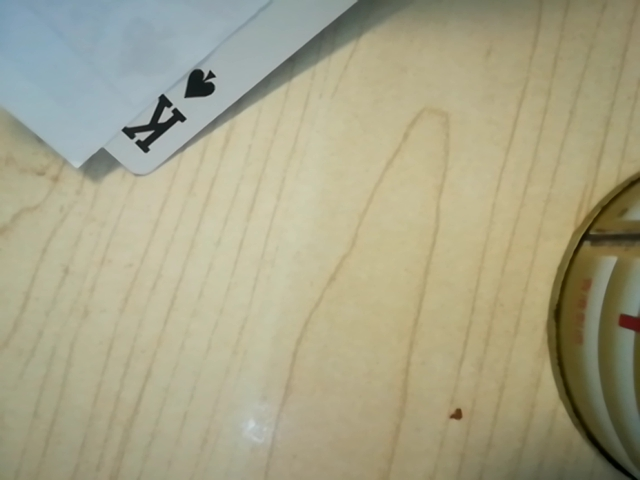ht k: (107, 54, 236, 167)
